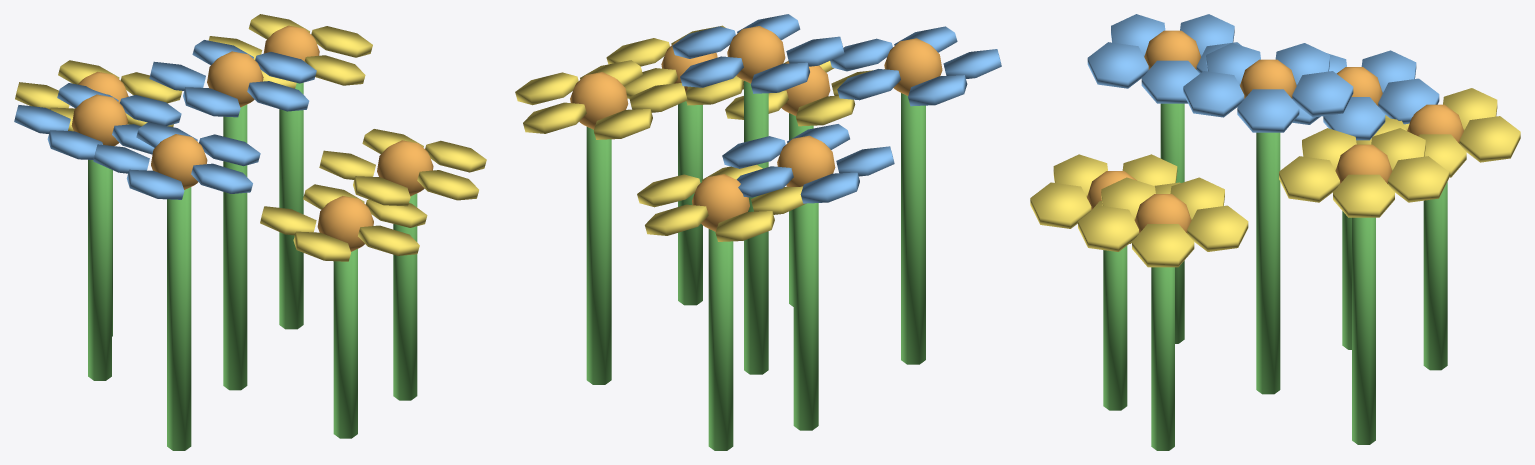
The model's file is LushWildflowerPatch_B.glb.
3 renders of one model, left to right at view 1: azimuth 30°, elevation 25°; view 2: azimuth 150°, elevation 25°; view 3: azimuth 270°, elevation 25°, orthographic. The views are drawn at different scales.
Visible parts, largest first — view 1: LushWildflowerPatch_B; view 2: LushWildflowerPatch_B; view 3: LushWildflowerPatch_B.
Part boxes in pixels (box(x1,y1,x2,y2)): LushWildflowerPatch_B: box(14, 14, 486, 450); LushWildflowerPatch_B: box(515, 14, 1001, 450); LushWildflowerPatch_B: box(1030, 14, 1520, 450).
Size of the model in its own units: 0.8687 by 0.76 by 1.03.
